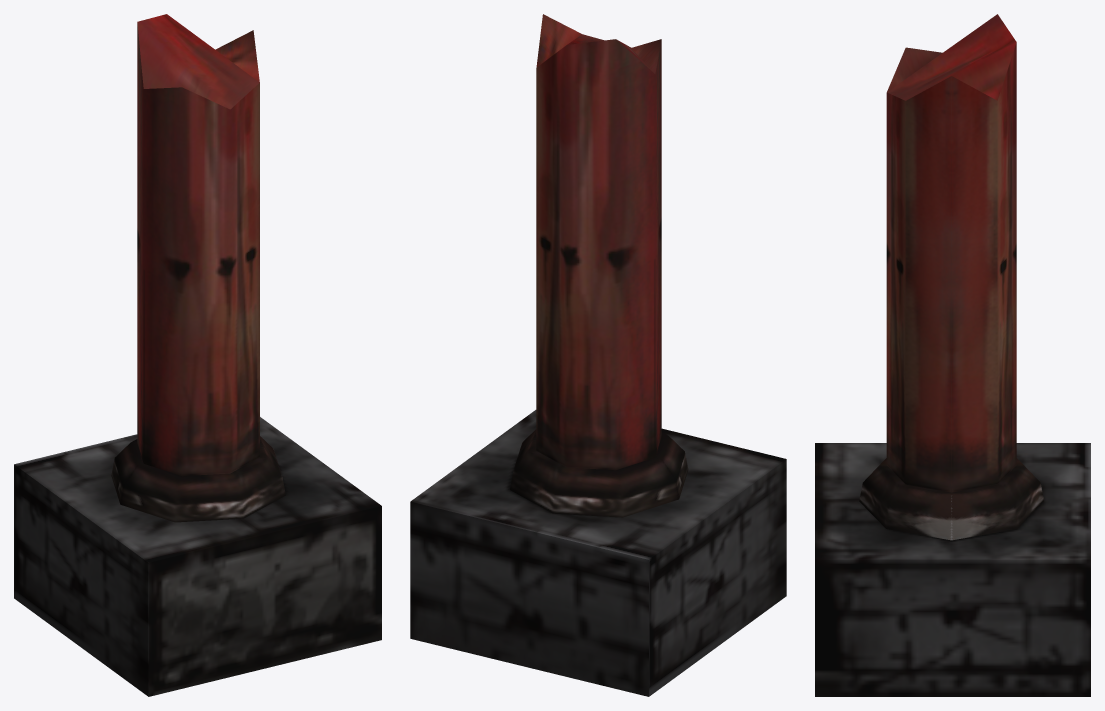
File: STR_PillarSimpleC.FBX
3 renders of one model, left to right at view 1: azimuth 30°, elevation 25°; view 2: azimuth 150°, elevation 25°; view 3: azimuth 270°, elevation 25°, orthographic. The views are drawn at different scales.
Visible parts, largest first — view 1: STR_PillarSimpleC; view 2: STR_PillarSimpleC; view 3: STR_PillarSimpleC.
Part boxes in pixels (x1,y1,x2,y2): STR_PillarSimpleC: (14,14,381,696); STR_PillarSimpleC: (410,14,786,696); STR_PillarSimpleC: (815,14,1090,696).
Size of the model in its own units: 96.99 by 235 by 96.99.
Materials: 1 (1 with a texture image).
